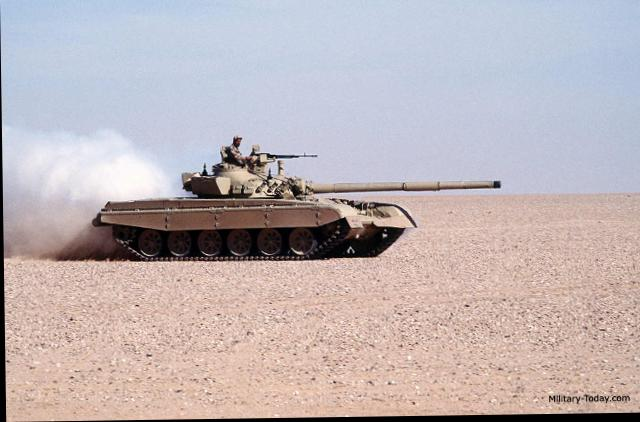other: (96, 159, 381, 270)
